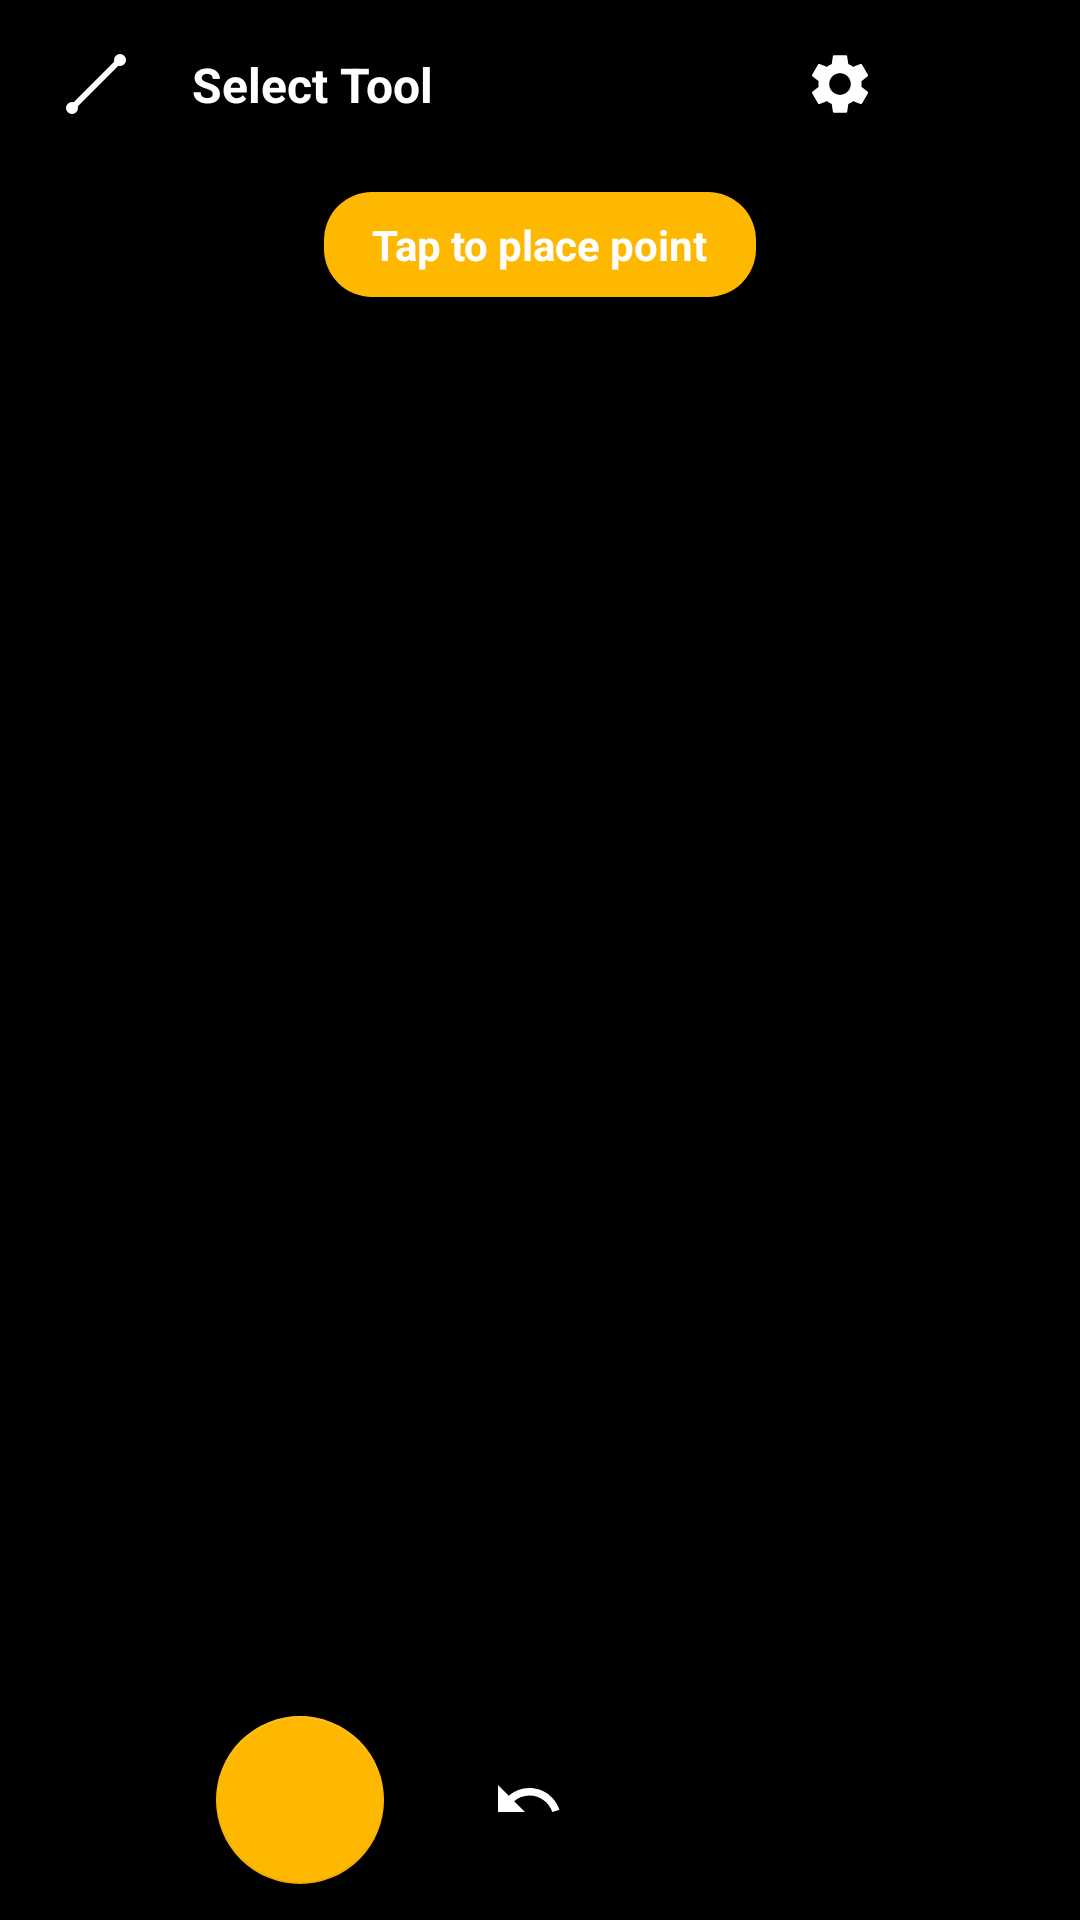

Locate icon controls on the screen. Image size 1080px×1920px, boxes as (x1,y1,x2,y2).
Delete Last: (498,1785,560,1812)
Settings: (812,55,868,113)
